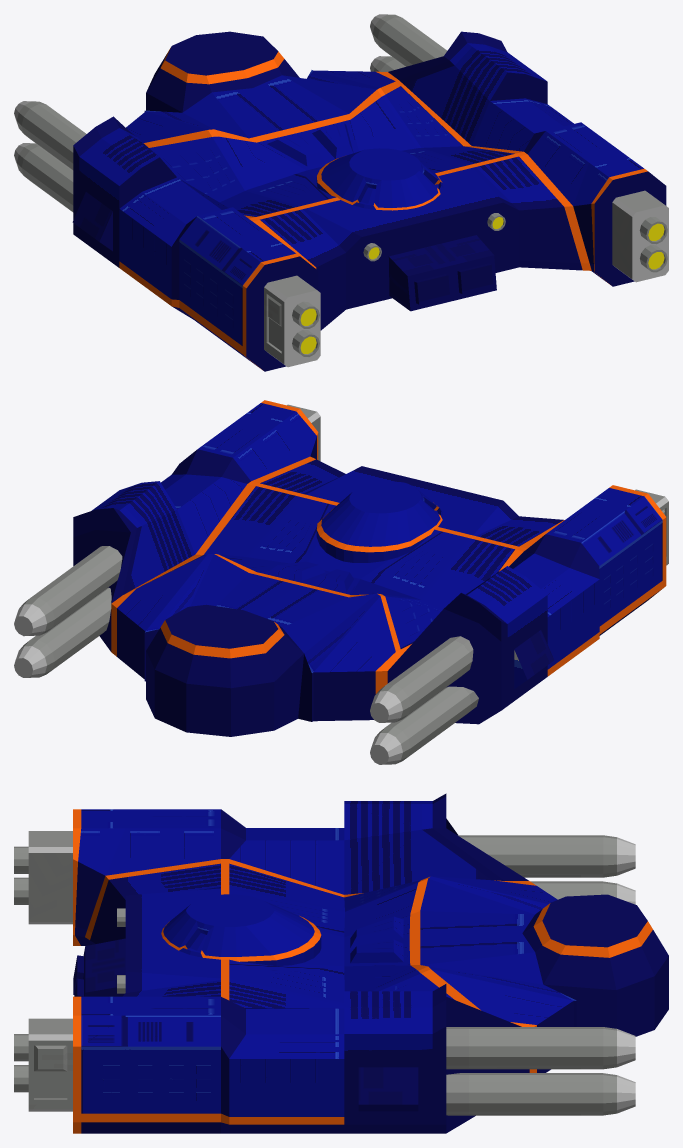
The model's file is mothership.glb.
3 renders of one model, top to bottom at view 1: azimuth 30°, elevation 25°; view 2: azimuth 150°, elevation 25°; view 3: azimuth 270°, elevation 25°, orthographic. The views are drawn at different scales.
Visible parts, largest first — view 1: Cube; view 2: Cube; view 3: Cube.
Part boxes in pixels (x1,y1,x2,y2): Cube: (14, 14, 668, 371); Cube: (14, 400, 668, 764); Cube: (14, 793, 668, 1133).
Bounding box in the file's own units: 3.04 × 0.8121 × 3.44.
Materials: 1 (1 with a texture image).
